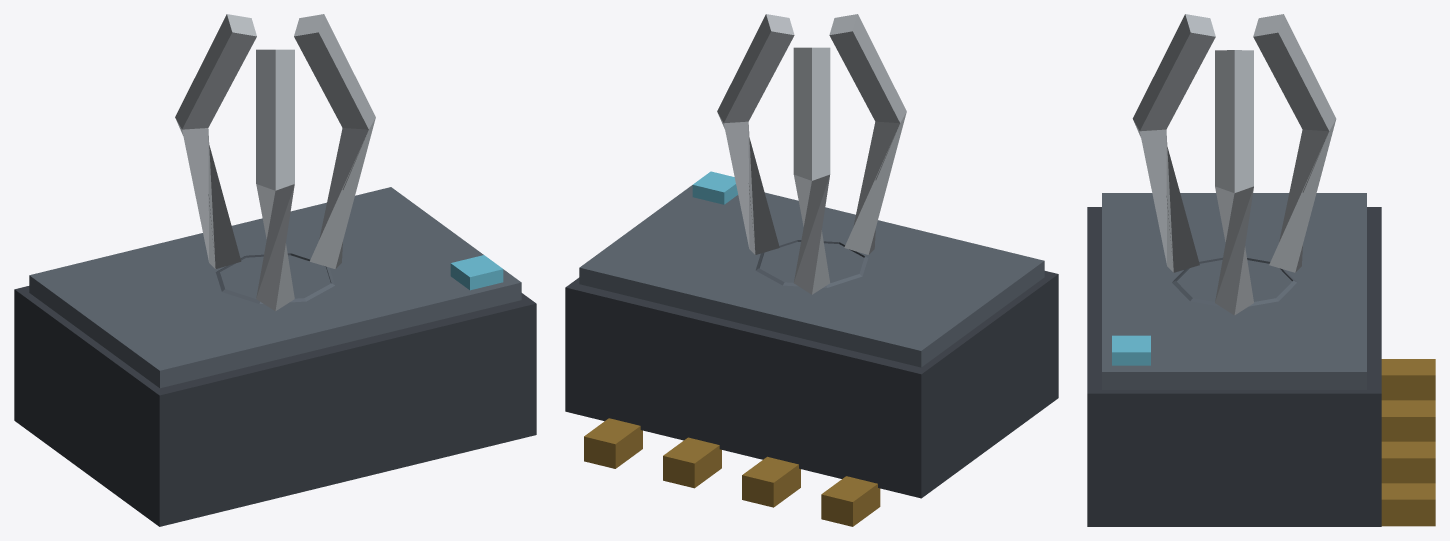
The model's file is droid-manipulator-upgrade.glb.
3 views of the same model, side by side, from view 1: azimuth 30°, elevation 25°; view 2: azimuth 150°, elevation 25°; view 3: azimuth 270°, elevation 25° (orthographic). The views are drawn at different scales.
Parts seen in each view (by area): view 1: m; view 2: m; view 3: m.
Boxes of the visible parts, bbox=[...] form: m: bbox=[14, 14, 536, 526]; m: bbox=[565, 14, 1058, 526]; m: bbox=[1087, 14, 1435, 526].
Size of the model in its own units: 0.1 by 0.1075 by 0.0789.
